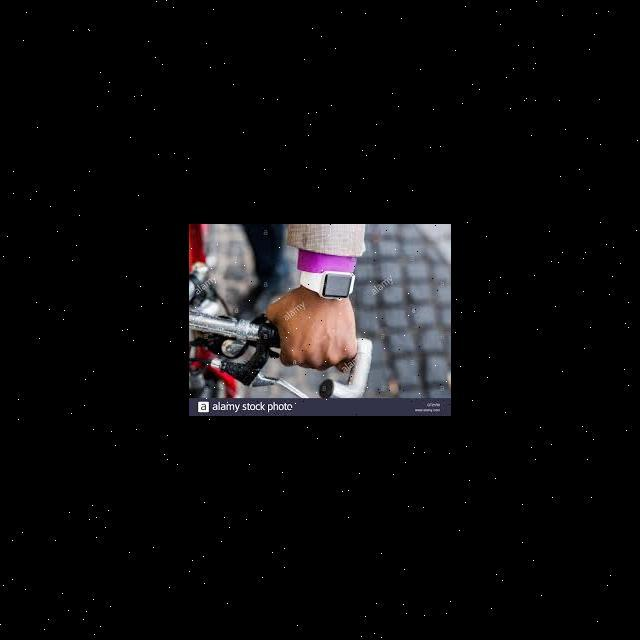watch: (292, 270, 386, 317)
